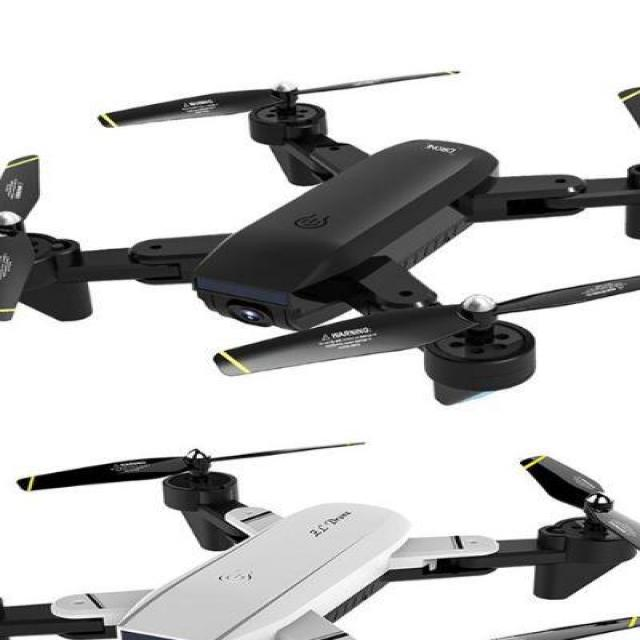drone: (0, 48, 640, 427), (0, 444, 640, 640)
